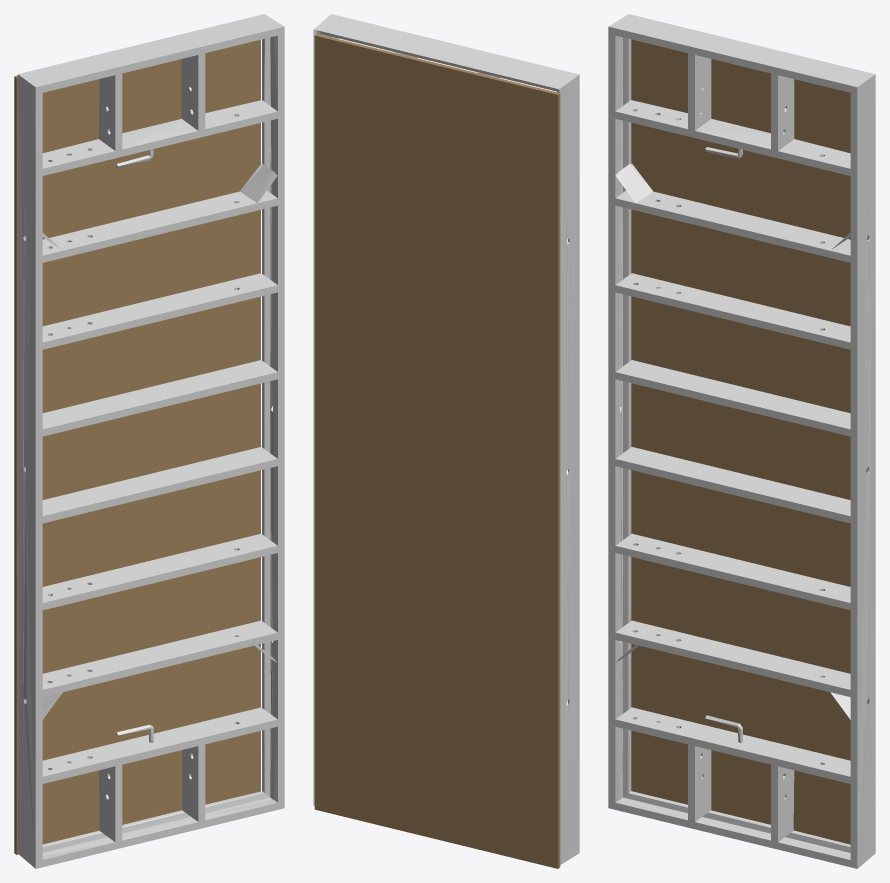
3 renders of one model, left to right at view 1: azimuth 30°, elevation 25°; view 2: azimuth 150°, elevation 25°; view 3: azimuth 330°, elevation 25°, orthographic.
Parts seen in each view (by area): view 1: 27904209; view 2: 27904209; view 3: 27904209.
Boxes of the visible parts, bbox=[...] form: 27904209: bbox=[14, 14, 284, 868]; 27904209: bbox=[313, 14, 579, 868]; 27904209: bbox=[608, 14, 875, 868].
Size of the model in its own units: 0.9 by 2.7 by 0.1349.
